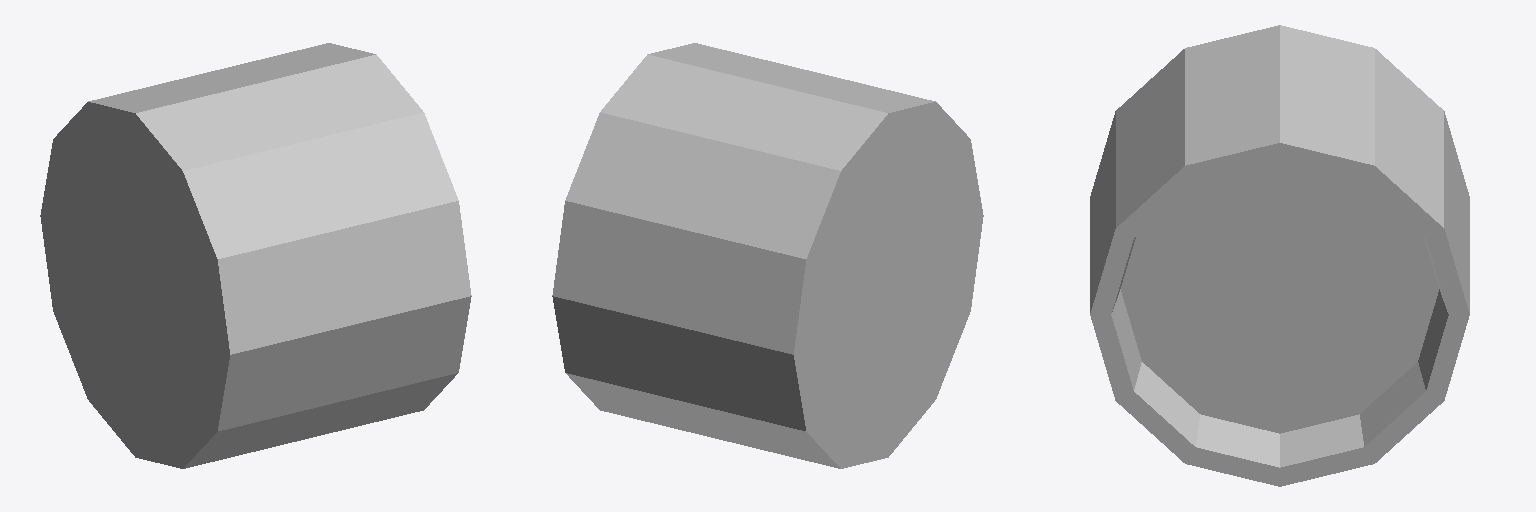
Rendered from wheel_l.obj.
The picture shows the model from 3 angles: view 1: azimuth 30°, elevation 25°; view 2: azimuth 150°, elevation 25°; view 3: azimuth 270°, elevation 25°; orthographic projection.
Visible parts, largest first — view 1: submesh0; view 2: submesh0; view 3: submesh0.
Part boxes in pixels (x1,y1,x2,y2): submesh0: (40, 43, 471, 468); submesh0: (552, 43, 983, 468); submesh0: (1090, 25, 1469, 486).
Bounding box in the file's own units: 0.39 × 0.5317 × 0.5317.